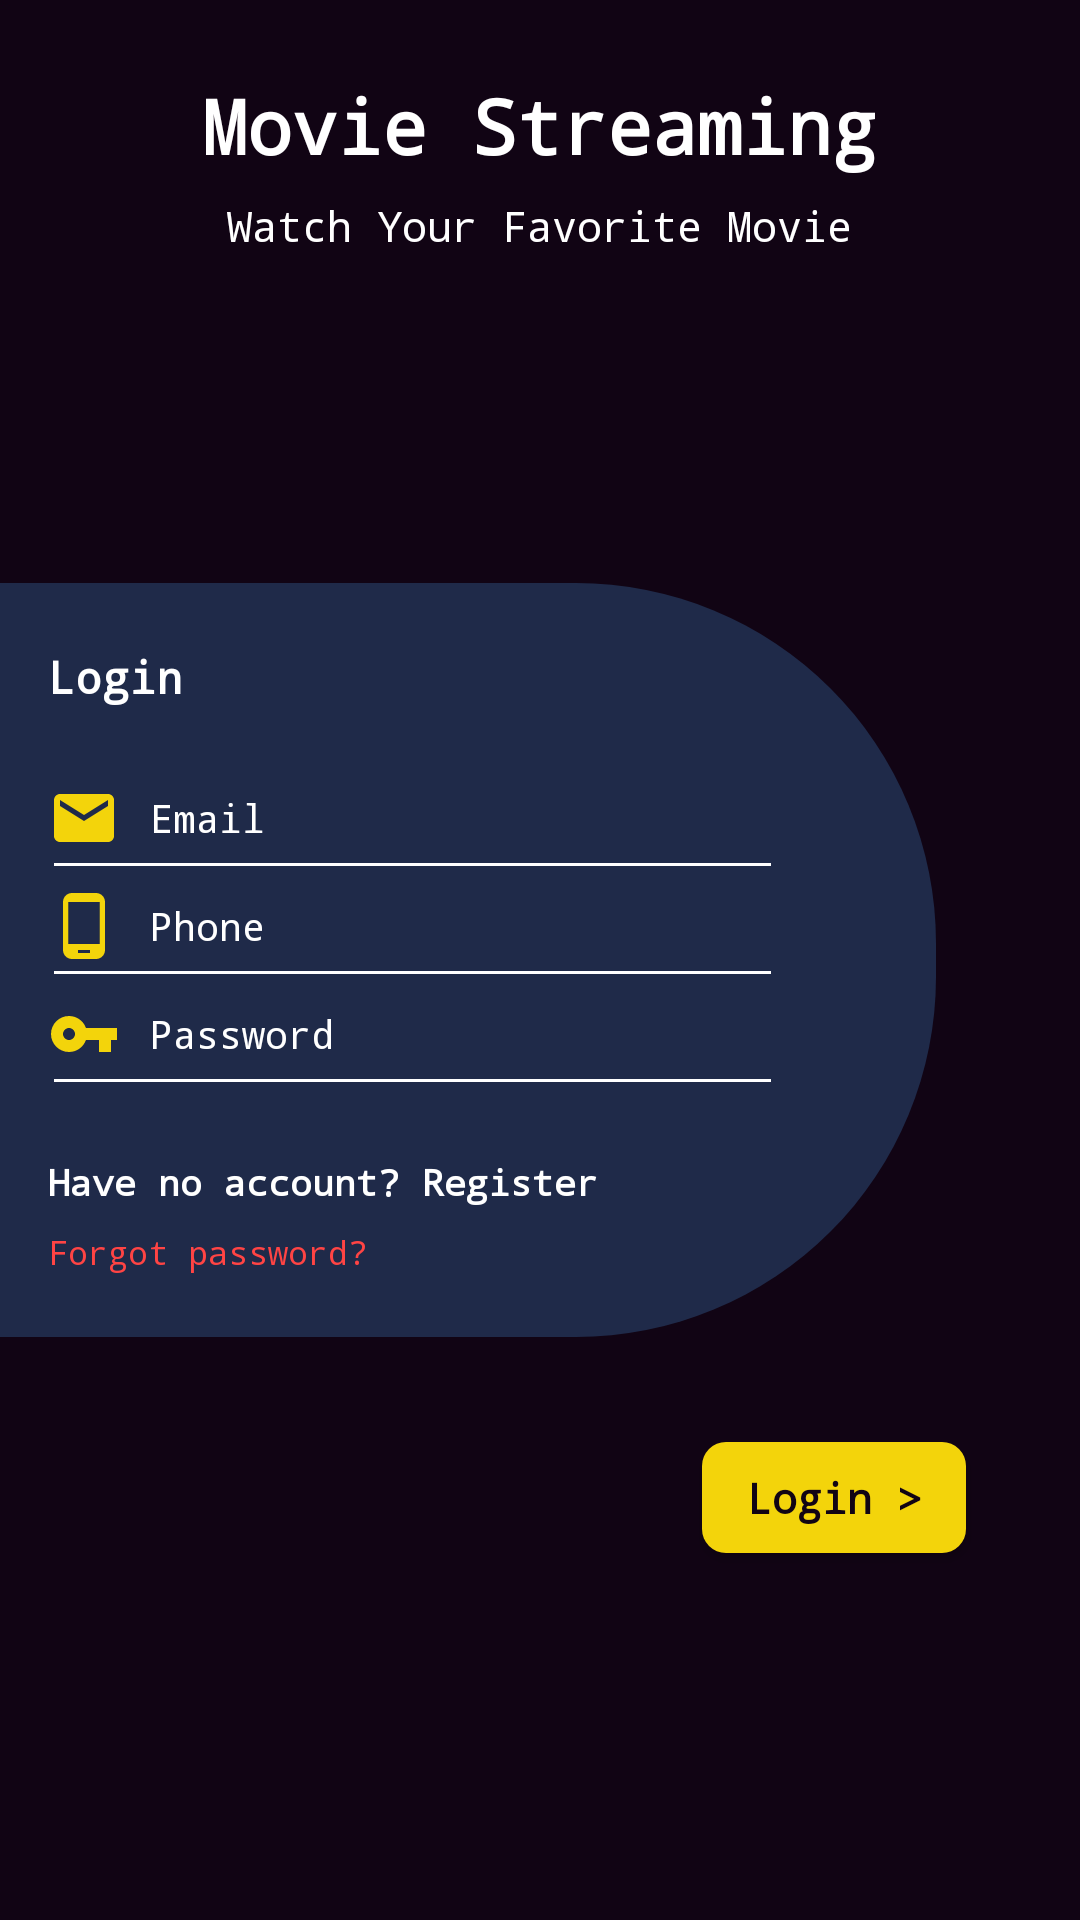

Locate icon controls on the screen. Image size 1080x1920, boxes as region(x1, y1, x2, y2).
vpn key: region(51, 1016, 117, 1052)
